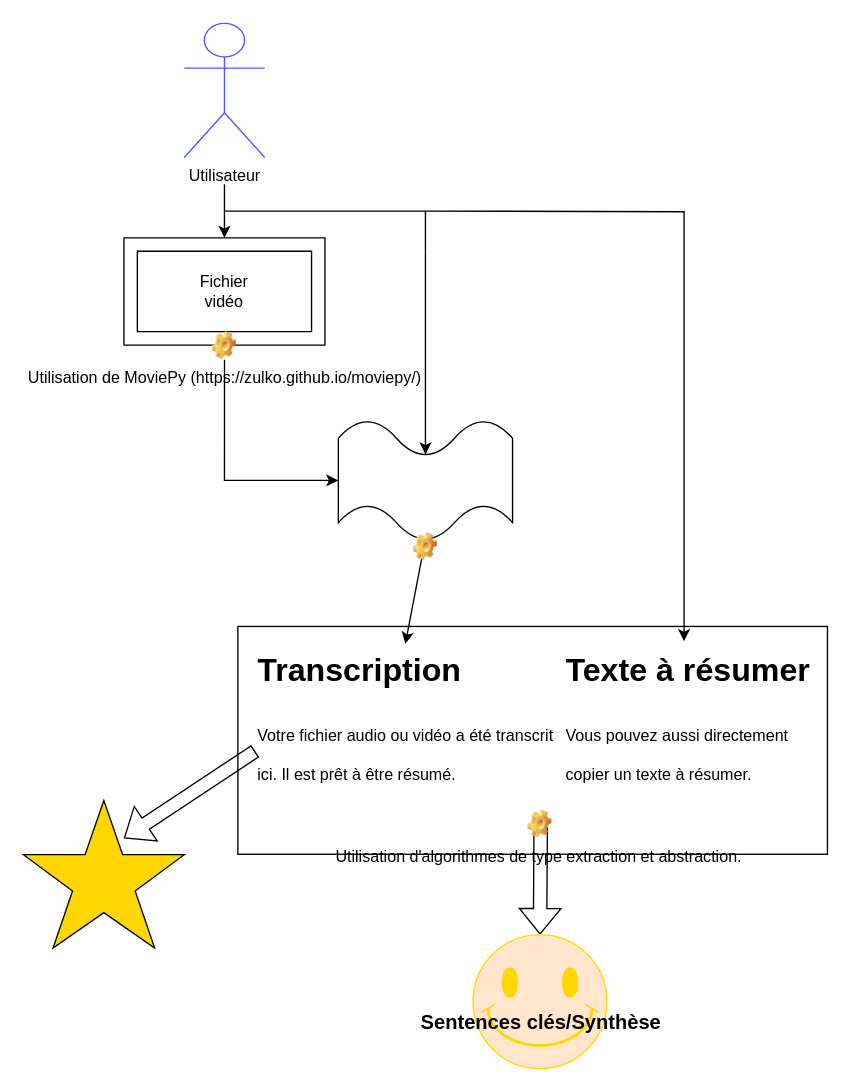
The diagram is 851 pixels wide and 1092 high, and some of its shapes have lost their labels. Here are the shapes that lost their labels. From the top down, the centre of each, then its label:
At point (425, 480): "Fichier audio".
At point (425, 546): "Utilisation de Whisper (https://openai.com/research/whisper)".
At point (103, 873): "Transcript".
